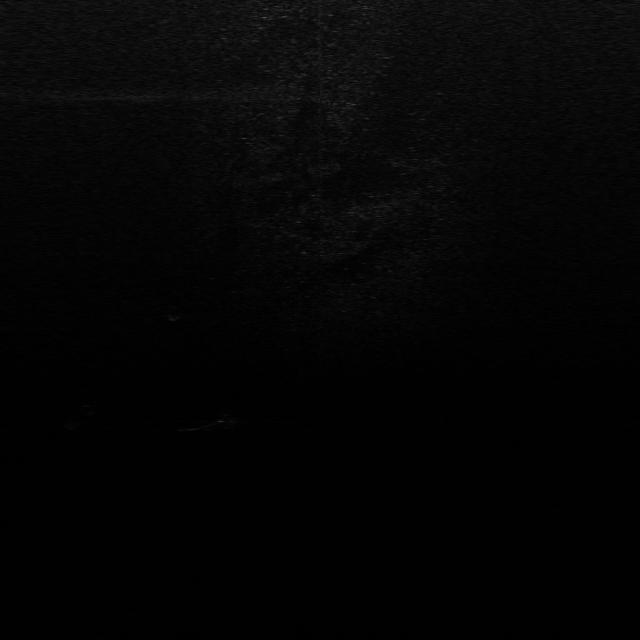ball: (209, 406, 242, 430)
circle cage: (164, 304, 188, 322)
tyre: (62, 403, 99, 429)
